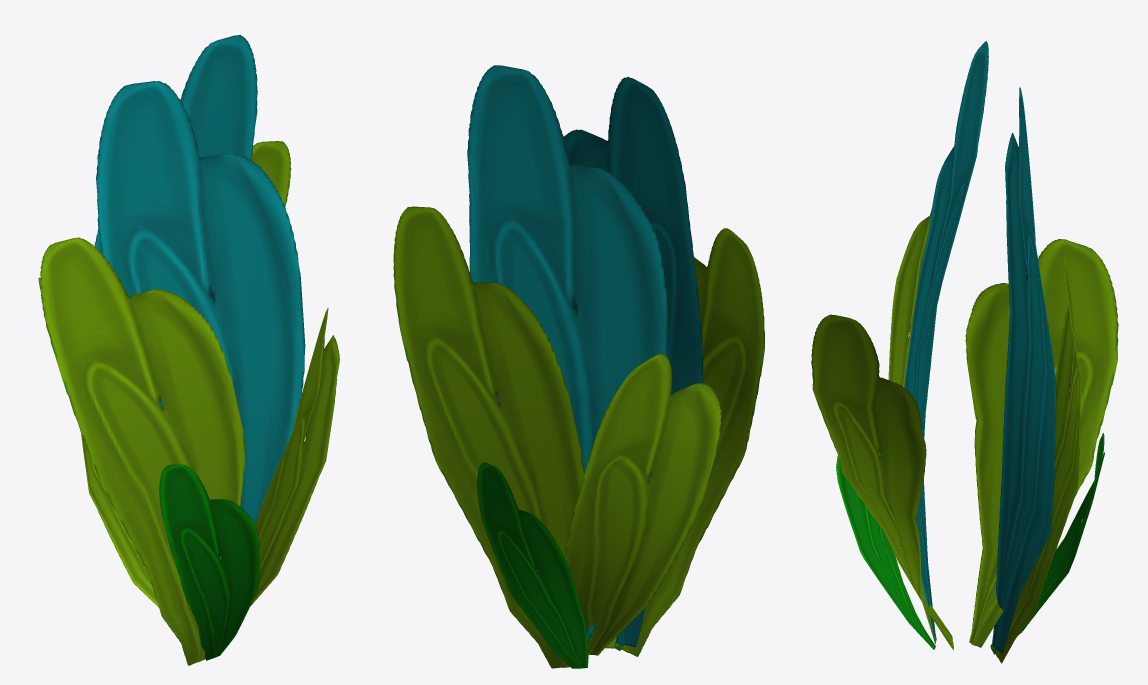
The model's file is 17_Arbusto_Grande.fbx.
3 renders of one model, left to right at view 1: azimuth 30°, elevation 25°; view 2: azimuth 150°, elevation 25°; view 3: azimuth 270°, elevation 25°, orthographic. The views are drawn at different scales.
Parts seen in each view (by area): view 1: Follage.081; view 2: Follage.081; view 3: Follage.081.
Part boxes in pixels (box(x1,y1,x2,y2)): Follage.081: box(38, 35, 339, 665); Follage.081: box(393, 65, 764, 668); Follage.081: box(811, 41, 1118, 663).
Bounding box in the file's own units: 56.75 × 94.94 × 48.5.
